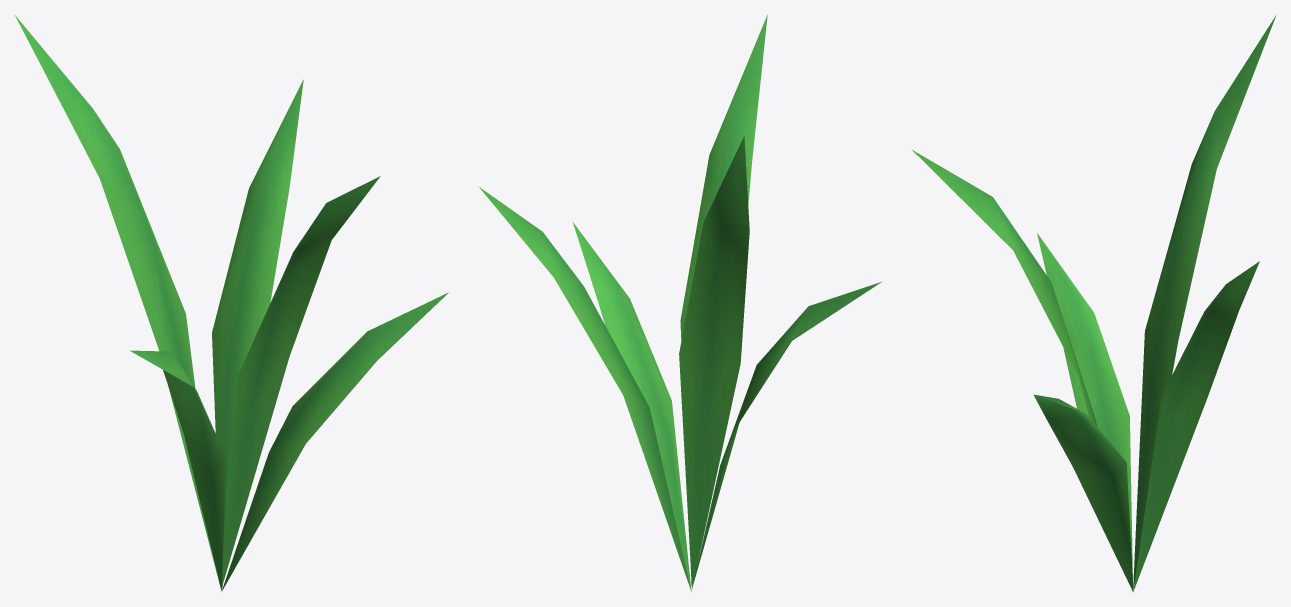
File: Grass_Clump_4.glb
The picture shows the model from 3 angles, left to right: view 1: azimuth 30°, elevation 25°; view 2: azimuth 150°, elevation 25°; view 3: azimuth 270°, elevation 25°; orthographic projection. The views are drawn at different scales.
Parts seen in each view (by area): view 1: object6.057_object6.044, object6.058_object6.045, object6.059_object6.046, object6.060_object6.050, object6.055_object6.043; view 2: object6.059_object6.046, object6.060_object6.050, object6.057_object6.044, object6.058_object6.045, object6.055_object6.043; view 3: object6.059_object6.046, object6.057_object6.044, object6.055_object6.043, object6.060_object6.050, object6.058_object6.045.
Boxes of the visible parts, left/top/right/bottom form: object6.057_object6.044: left=212, top=79, right=303, bottom=590; object6.058_object6.045: left=221, top=176, right=380, bottom=587; object6.059_object6.046: left=14, top=14, right=220, bottom=588; object6.060_object6.050: left=221, top=292, right=449, bottom=591; object6.055_object6.043: left=130, top=350, right=226, bottom=590; object6.059_object6.046: left=679, top=136, right=749, bottom=588; object6.060_object6.050: left=573, top=222, right=691, bottom=591; object6.057_object6.044: left=478, top=186, right=690, bottom=589; object6.058_object6.045: left=680, top=15, right=767, bottom=584; object6.055_object6.043: left=693, top=282, right=881, bottom=583; object6.059_object6.046: left=1133, top=15, right=1276, bottom=587; object6.057_object6.044: left=1133, top=261, right=1259, bottom=591; object6.055_object6.043: left=1037, top=233, right=1132, bottom=579; object6.060_object6.050: left=1034, top=394, right=1133, bottom=592; object6.058_object6.045: left=911, top=149, right=1097, bottom=426.
Bounding box in the file's own units: 0.3902 × 0.6493 × 0.4144.
1 material, 1 textured.
